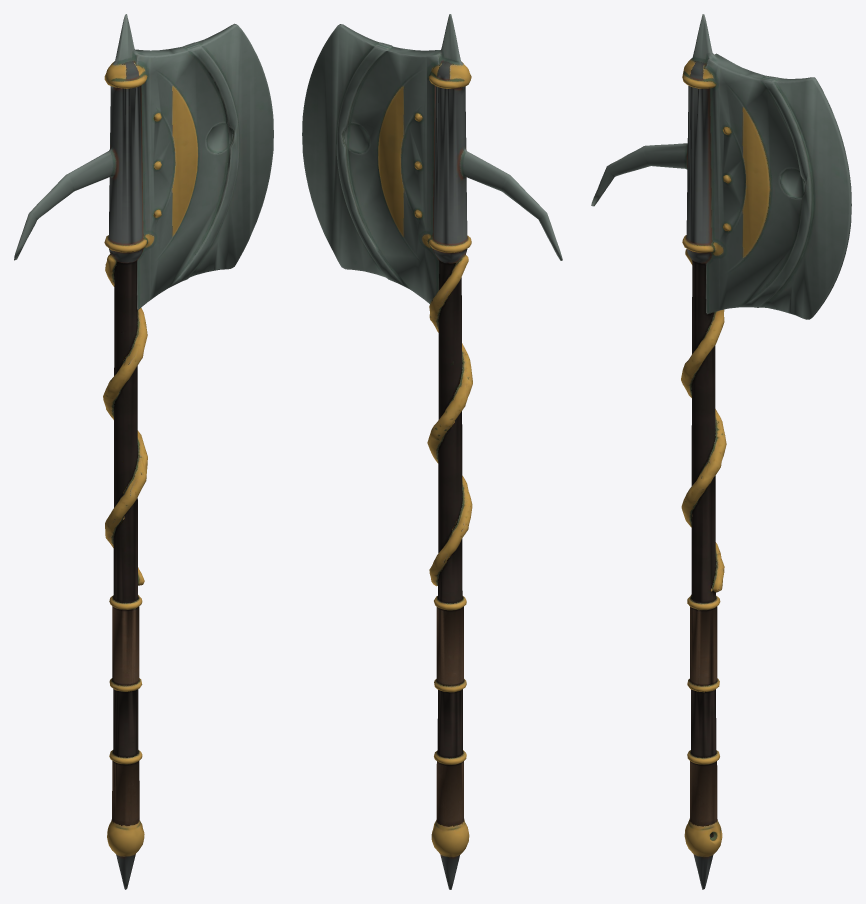
Rendered from boss_morvane_axe.glb.
3 renders of one model, left to right at view 1: azimuth 30°, elevation 25°; view 2: azimuth 150°, elevation 25°; view 3: azimuth 330°, elevation 25°, orthographic.
Parts seen in each view (by area): view 1: boss_morvane_axe; view 2: boss_morvane_axe; view 3: boss_morvane_axe.
Part boxes in pixels (bbox=[...]): boss_morvane_axe: bbox=[14, 14, 273, 889]; boss_morvane_axe: bbox=[302, 14, 562, 889]; boss_morvane_axe: bbox=[591, 14, 851, 889].
Size of the model in its own units: 0.5632 by 1.81 by 0.084.
Materials: 1 (1 with a texture image).
